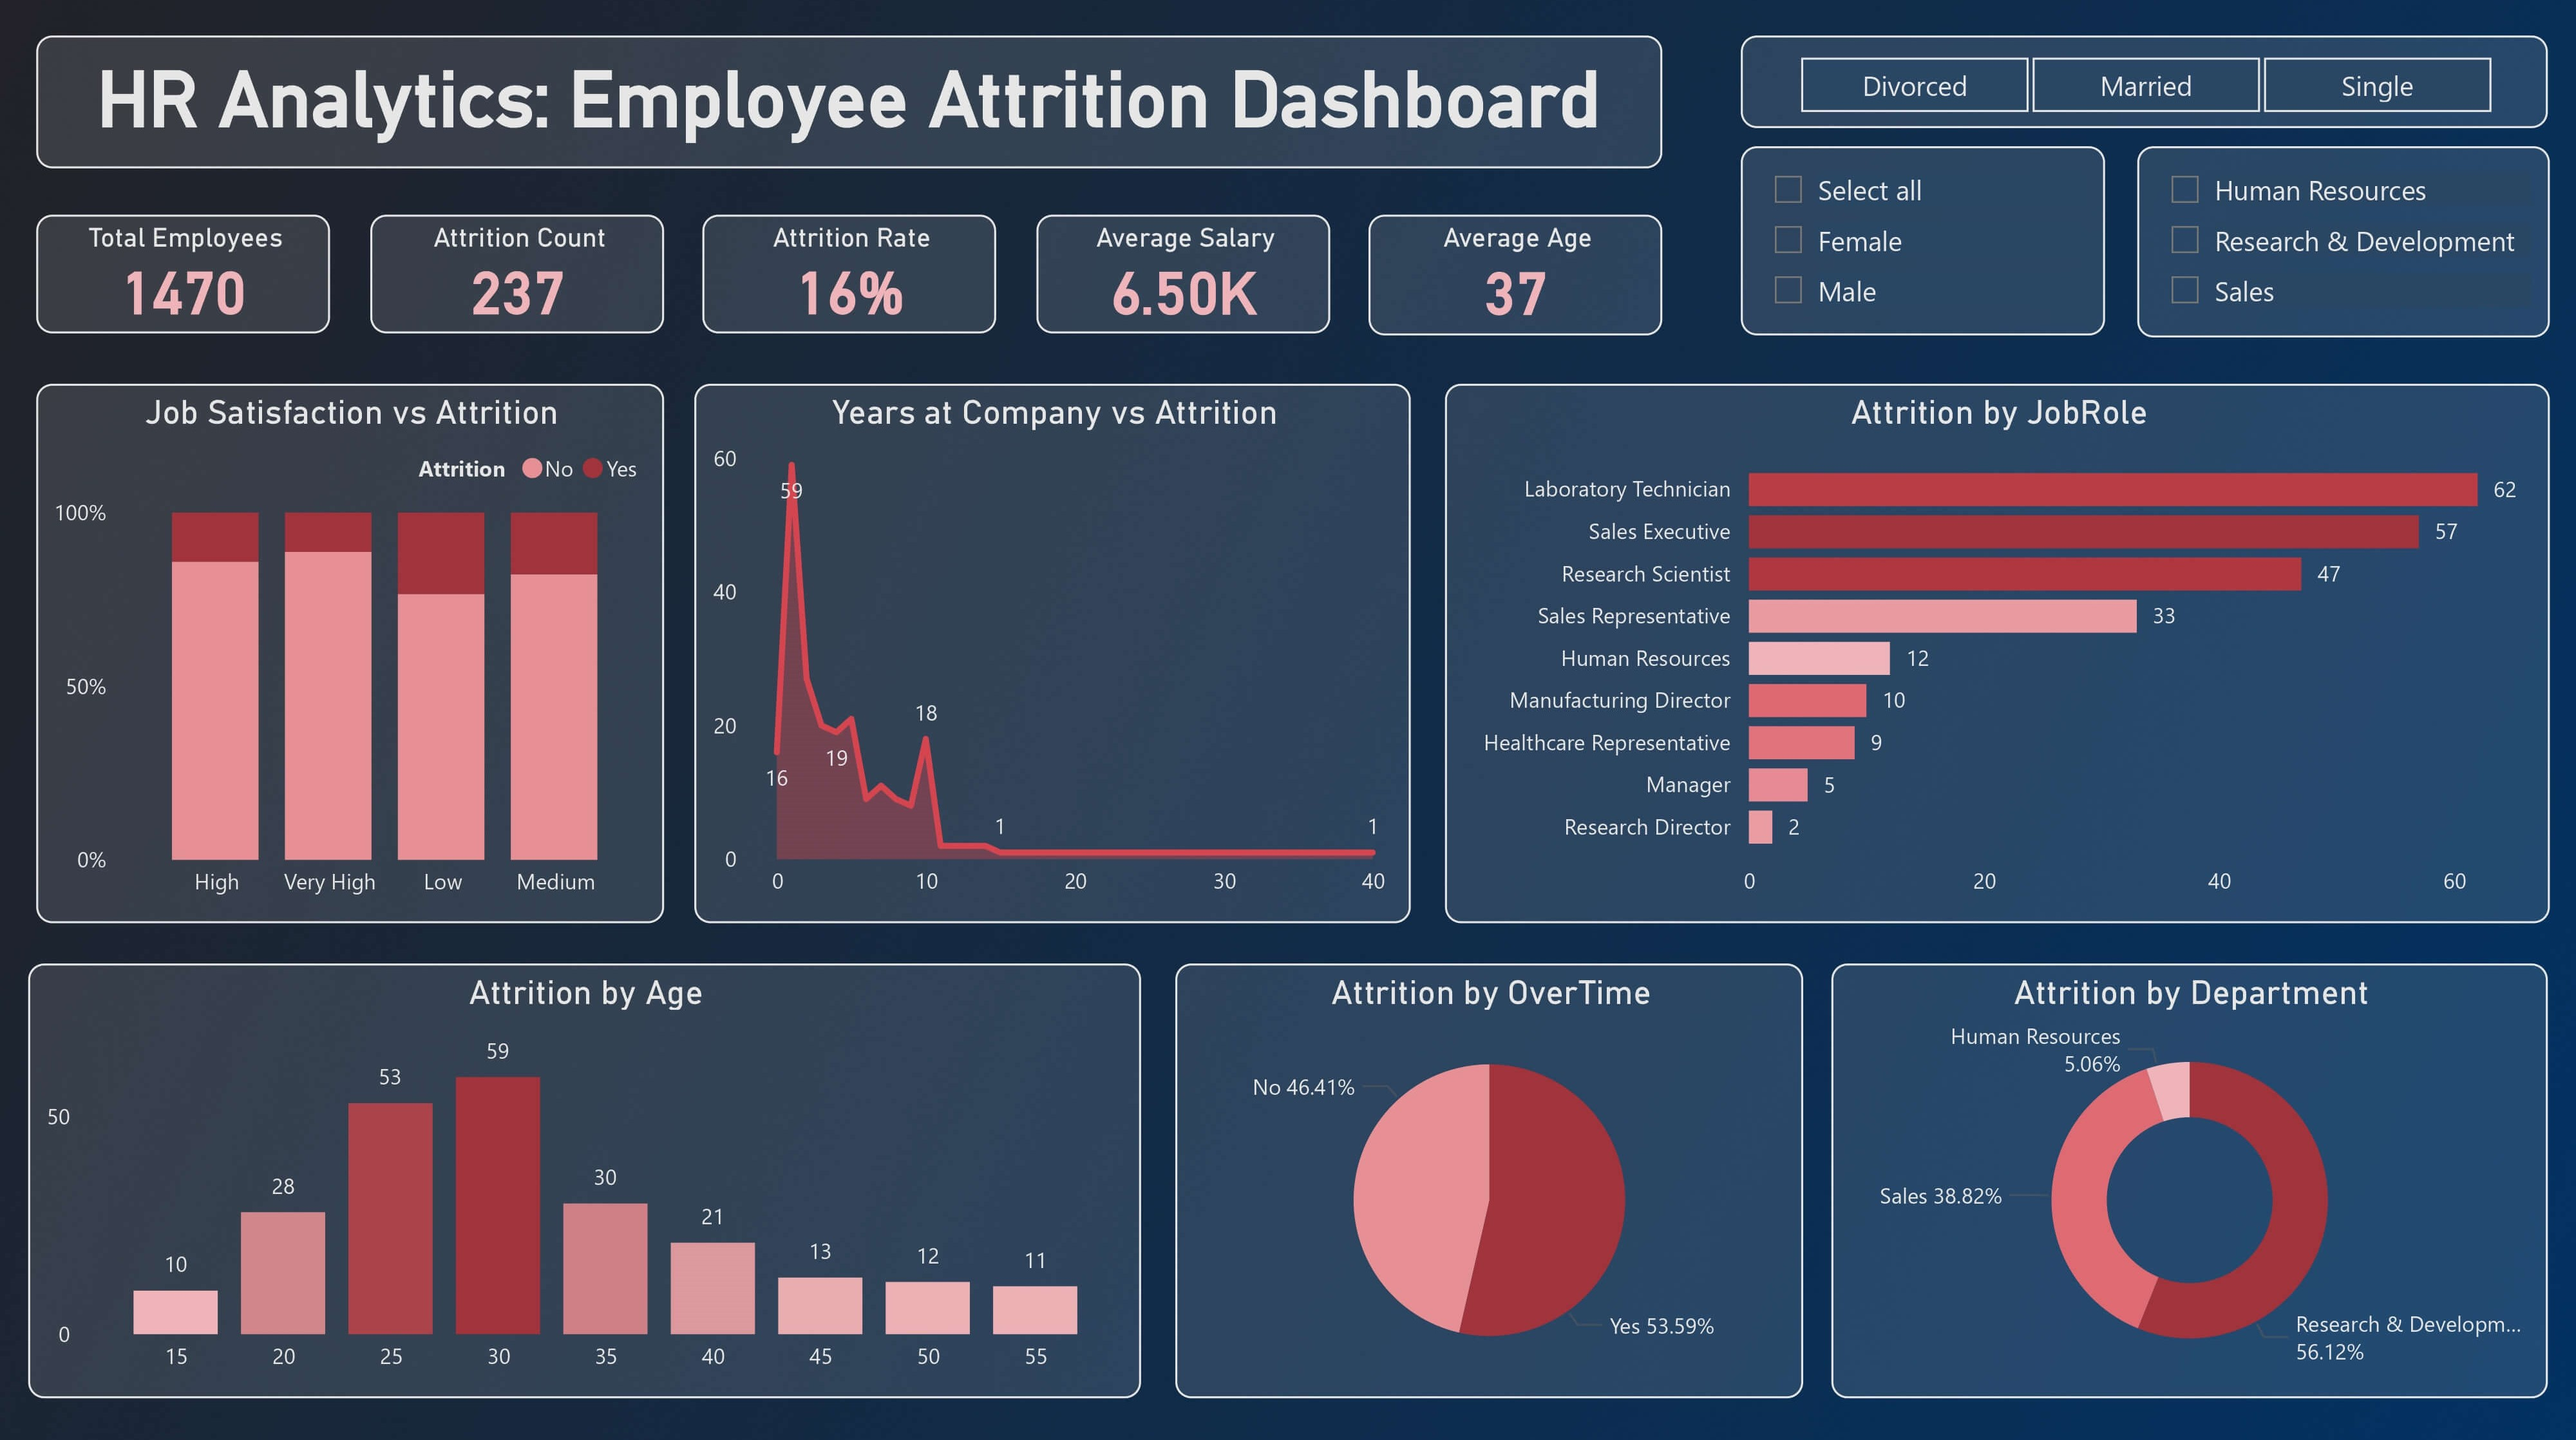

The dashboard page shown, as its layout file describes it:
{"tool":"powerbi","page":{"name":"Dashboard","canvas":[1280,720],"ordinal":0},"visuals":[{"type":"donutChart","title":"Attrition by Department","fields":{"Category":["WA_Fn-UseC_-HR-Employee-Attrition.Department"],"Y":["WA_Fn-UseC_-HR-Employee-Attrition.Attrition Count"]},"box":[910,480.8,356.1,216.2],"z":0},{"type":"clusteredBarChart","title":"Attrition by JobRole","fields":{"Category":["WA_Fn-UseC_-HR-Employee-Attrition.JobRole"],"Y":["WA_Fn-UseC_-HR-Employee-Attrition.Attrition Count"]},"box":[717.6,192.9,549,268.2],"z":1000},{"type":"clusteredColumnChart","title":"Attrition by Age","fields":{"Y":["WA_Fn-UseC_-HR-Employee-Attrition.Attrition Count"],"Category":["WA_Fn-UseC_-HR-Employee-Attrition.Age (bins)"]},"box":[14.4,480.8,552.5,216.2],"z":2000},{"type":"hundredPercentStackedColumnChart","title":"Job Satisfaction vs Attrition","fields":{"Category":["WA_Fn-UseC_-HR-Employee-Attrition.Job Satisfaction Status"],"Y":["Sum(WA_Fn-UseC_-HR-Employee-Attrition.EmployeeNumber)"],"Series":["WA_Fn-UseC_-HR-Employee-Attrition.Attrition"]},"box":[17.9,192.9,312.2,268.2],"z":3000},{"type":"pieChart","title":"Attrition by OverTime","fields":{"Category":["WA_Fn-UseC_-HR-Employee-Attrition.OverTime"],"Y":["WA_Fn-UseC_-HR-Employee-Attrition.Attrition Count"]},"box":[583.9,480.8,312.2,216.2],"z":4000},{"type":"areaChart","title":"Years at Company vs Attrition","fields":{"Category":["WA_Fn-UseC_-HR-Employee-Attrition.YearsAtCompany"],"Y":["WA_Fn-UseC_-HR-Employee-Attrition.Attrition Count"]},"box":[345.3,192.9,356.1,268.2],"z":5000},{"type":"card","title":"Total Employees","fields":{"Values":["WA_Fn-UseC_-HR-Employee-Attrition.Total Employees"]},"box":[17.9,109.4,146.2,59.2],"z":6000},{"type":"card","title":"Attrition Count","fields":{"Values":["WA_Fn-UseC_-HR-Employee-Attrition.Attrition Count"]},"box":[183.5,109.1,146.3,59.1],"z":7000},{"type":"card","title":"Attrition Rate","fields":{"Values":["WA_Fn-UseC_-HR-Employee-Attrition.Attrition Rate"]},"box":[348.8,109.1,146.3,59.1],"z":8000},{"type":"card","title":"Average Salary","fields":{"Values":["WA_Fn-UseC_-HR-Employee-Attrition.Avg Salary"]},"box":[514.6,109.4,146.2,59.4],"z":9000},{"type":"slicer","fields":{"Values":["WA_Fn-UseC_-HR-Employee-Attrition.Department"]},"box":[1061.8,74.5,204.5,94.5],"z":10000},{"type":"slicer","fields":{"Values":["WA_Fn-UseC_-HR-Employee-Attrition.Gender"]},"box":[865.5,75.5,180.9,93.6],"z":11000},{"type":"slicer","fields":{"Values":["WA_Fn-UseC_-HR-Employee-Attrition.MaritalStatus"]},"box":[865.5,20,400.9,46.4],"z":12000},{"type":"textbox","box":[18.3,20.2,807.7,66.3],"z":13000},{"type":"card","title":"Average Age","fields":{"Values":["WA_Fn-UseC_-HR-Employee-Attrition.Avg Age"]},"box":[679.9,109.1,146.3,59.8],"z":14001}]}

Visuals, with their boxes in screenshot pixels (x1, y1, x2, y2), scaled from the page's 1280x720 canvas onto the 2576x1440 screenshot:
"Attrition by Department" donutChart: bbox(1832, 962, 2548, 1394)
"Attrition by JobRole" clusteredBarChart: bbox(1444, 386, 2549, 922)
"Attrition by Age" clusteredColumnChart: bbox(29, 962, 1141, 1394)
"Job Satisfaction vs Attrition" hundredPercentStackedColumnChart: bbox(36, 386, 665, 922)
"Attrition by OverTime" pieChart: bbox(1175, 962, 1803, 1394)
"Years at Company vs Attrition" areaChart: bbox(695, 386, 1412, 922)
"Total Employees" card: bbox(36, 219, 330, 337)
"Attrition Count" card: bbox(369, 218, 664, 336)
"Attrition Rate" card: bbox(702, 218, 996, 336)
"Average Salary" card: bbox(1036, 219, 1330, 337)
slicer - WA_Fn-UseC_-HR-Employee-Attrition.Department: bbox(2137, 149, 2548, 338)
slicer - WA_Fn-UseC_-HR-Employee-Attrition.Gender: bbox(1742, 151, 2106, 338)
slicer - WA_Fn-UseC_-HR-Employee-Attrition.MaritalStatus: bbox(1742, 40, 2549, 133)
textbox: bbox(37, 41, 1662, 173)
"Average Age" card: bbox(1368, 218, 1663, 338)
